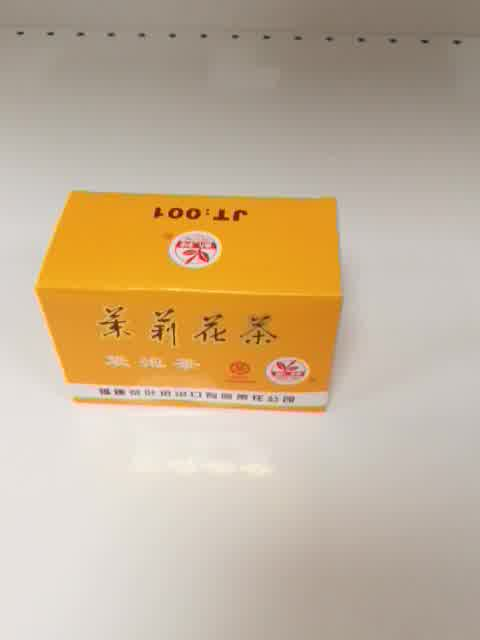jasminetea: (36, 188, 344, 414)
